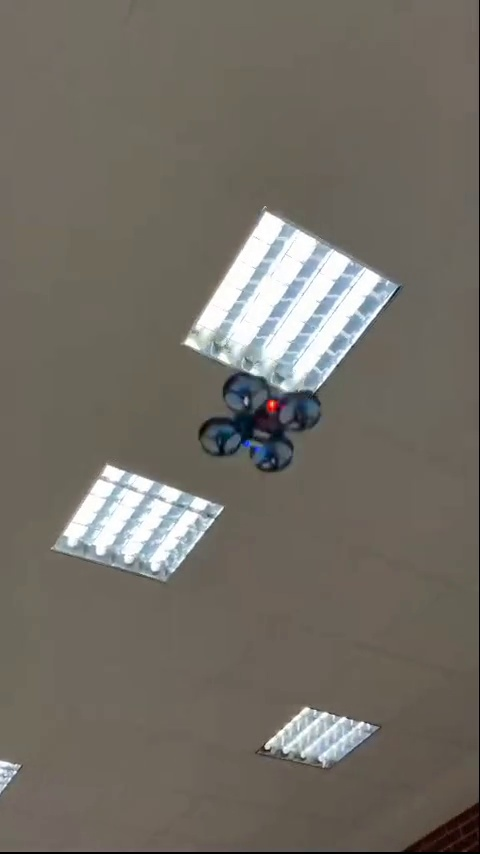drone: (197, 376, 323, 470)
